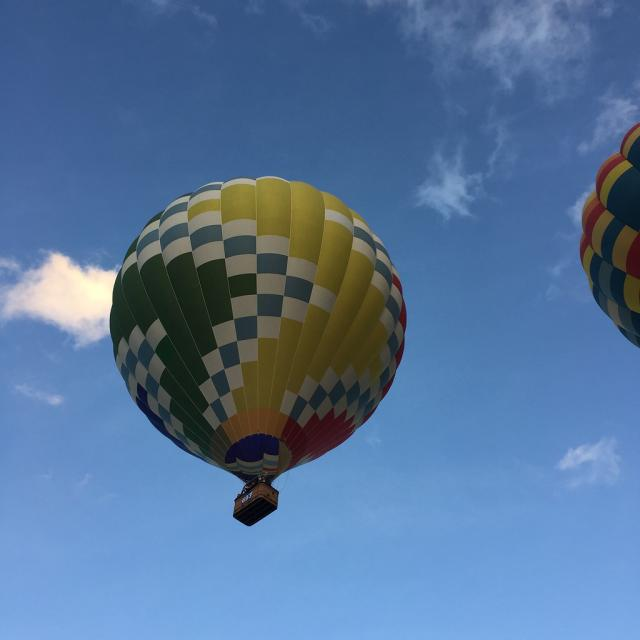balloon: (109, 176, 408, 528), (580, 122, 640, 349)
